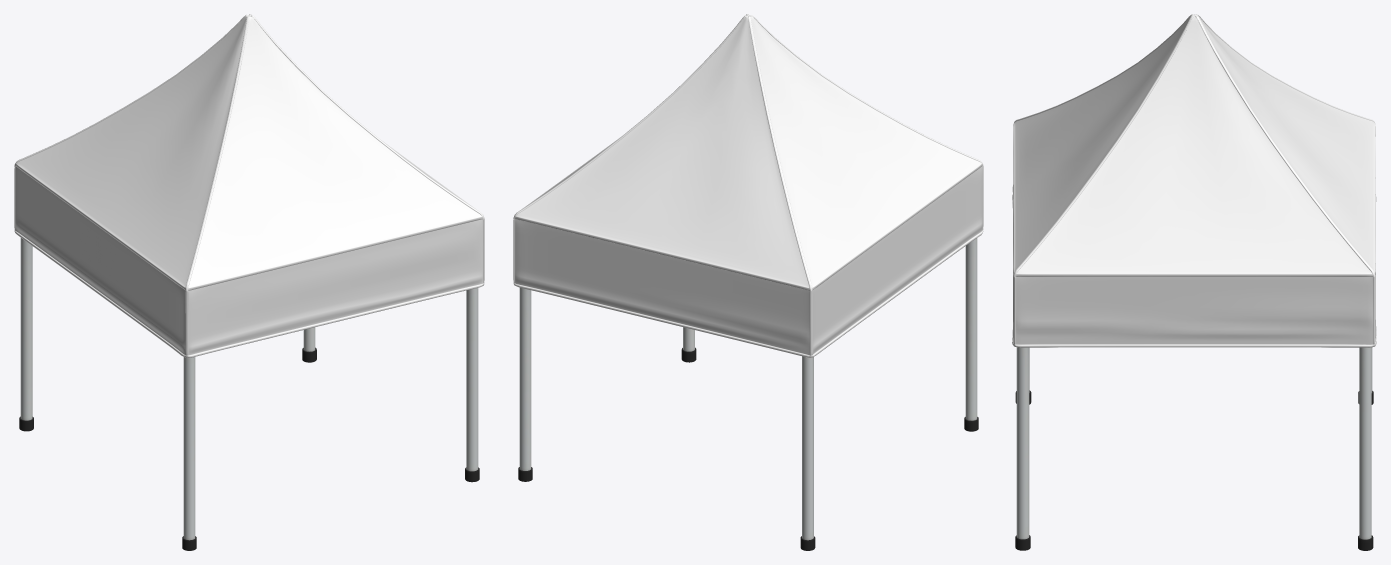
Rendered from canopy-5x5.glb.
The picture shows the model from 3 angles, left to right: view 1: azimuth 30°, elevation 25°; view 2: azimuth 150°, elevation 25°; view 3: azimuth 270°, elevation 25°; orthographic projection. The views are drawn at different scales.
Parts seen in each view (by area): view 1: fabric, leg5; view 2: fabric, leg5; view 3: fabric, leg5.
Part boxes in pixels (x1,y1,x2,y2): fabric: [14, 14, 484, 357]; leg5: [19, 238, 479, 550]; fabric: [513, 14, 983, 357]; leg5: [518, 238, 978, 550]; fabric: [1012, 14, 1376, 347]; leg5: [1015, 347, 1373, 550].
Bounding box in the file's own units: 1.53 × 2.13 × 1.53.
3 materials, 1 textured.
